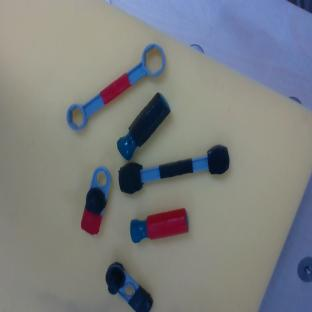part_1_bad: (96, 259, 158, 312)
part_1_good: (79, 164, 113, 236)
part_2_bad: (110, 92, 175, 161)
part_2_good: (127, 206, 191, 245)
part_3_bad: (115, 142, 232, 196)
part_3_good: (59, 40, 173, 136)
